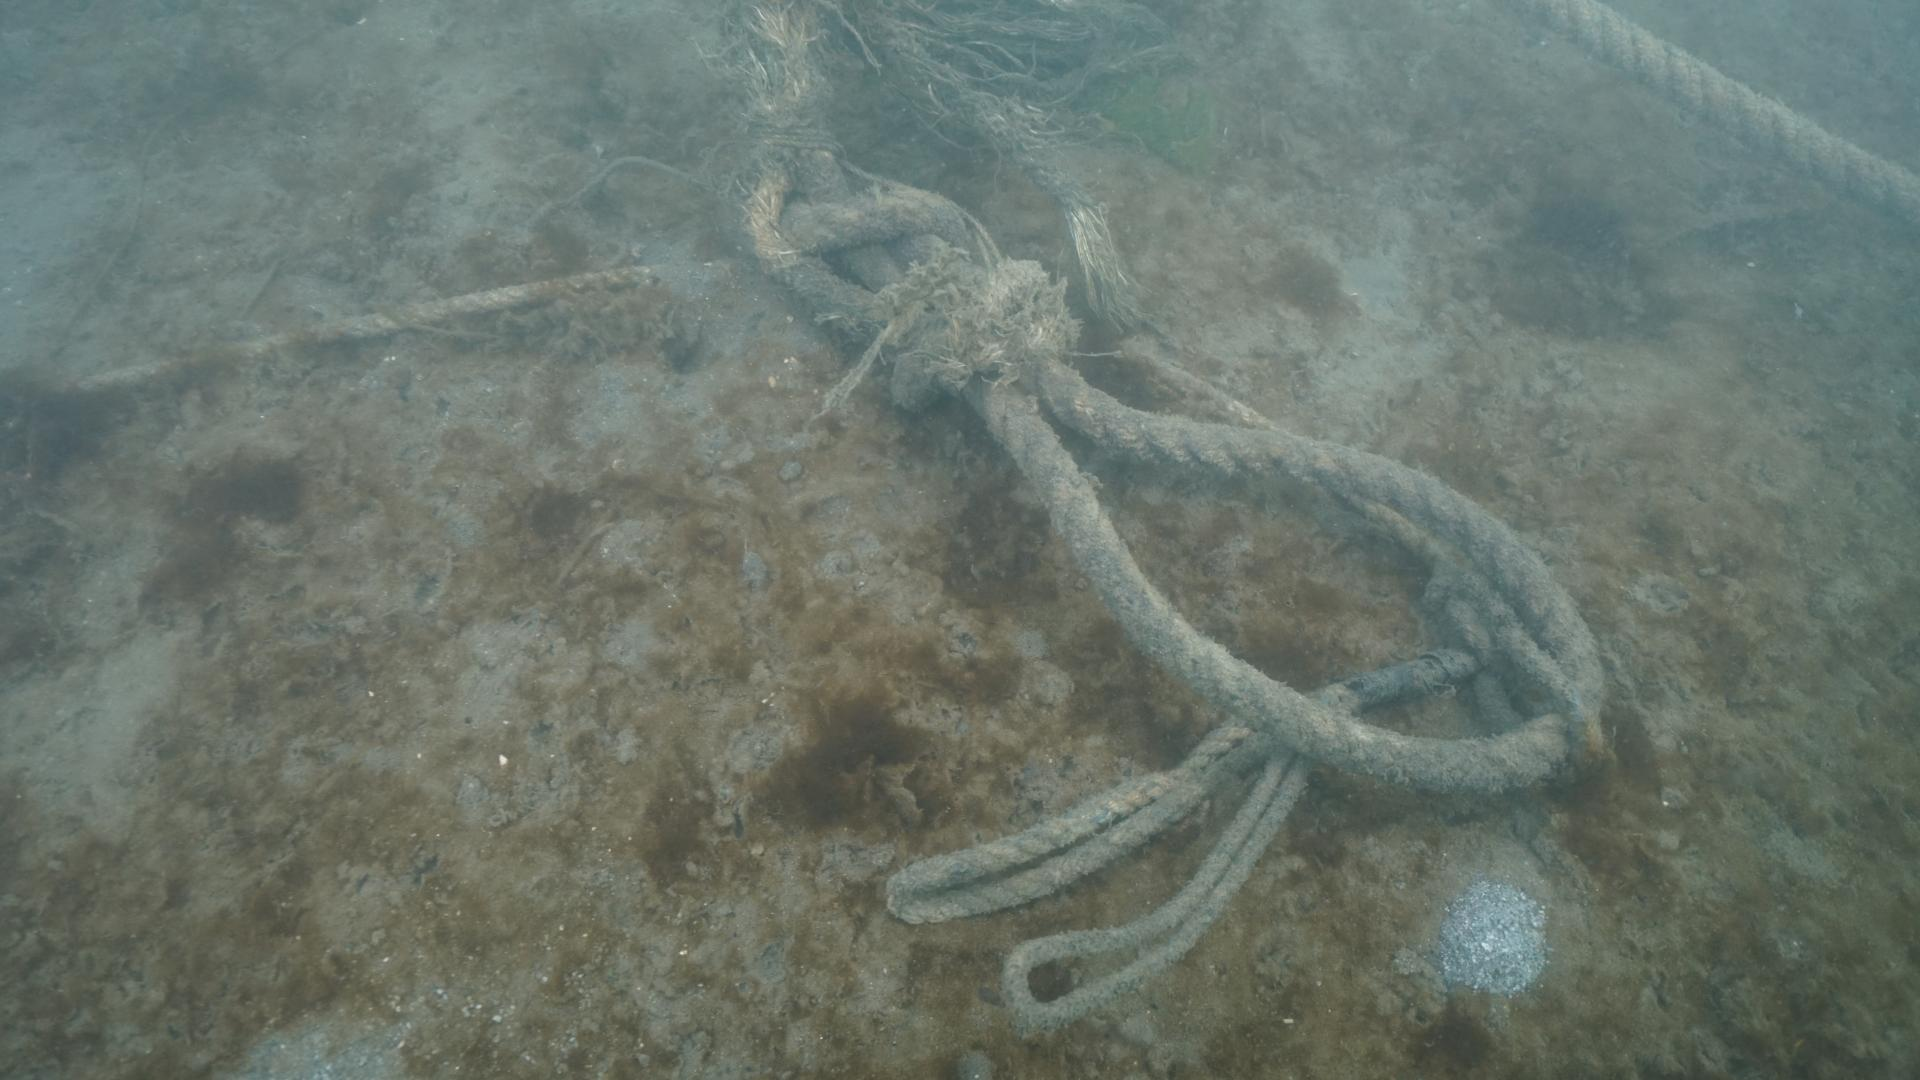bundle of ropes: (725, 0, 1920, 1036)
